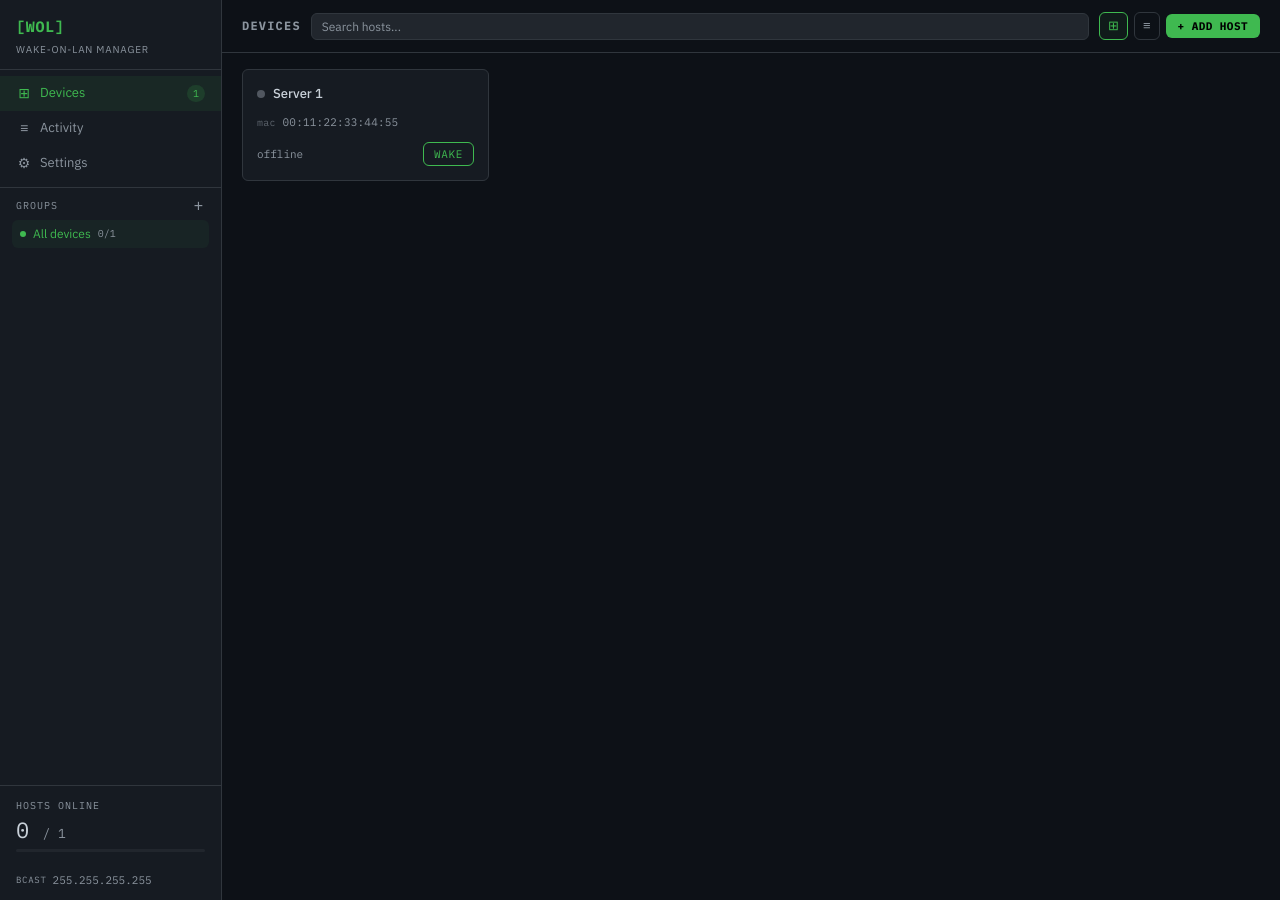
Test: App › viewMode › opens drawer from list view
The image size is (1280, 900).
Expected: the text "Server 1" is shown, [273,85,323,102]
Click the button titled "List view": (1147,26) [1134,12,1160,40]
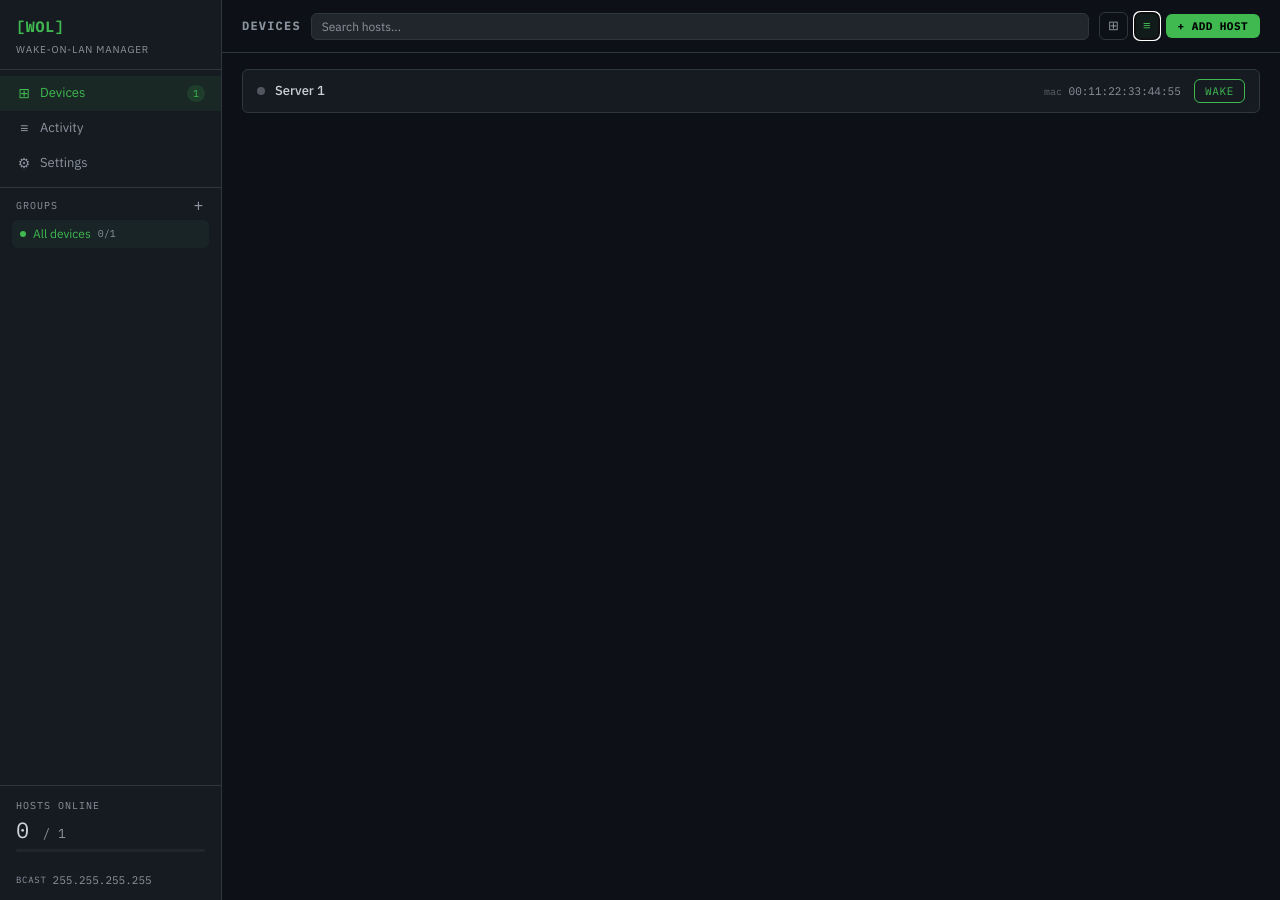
Click the text "Server 1": (300,91) [275,82,325,99]
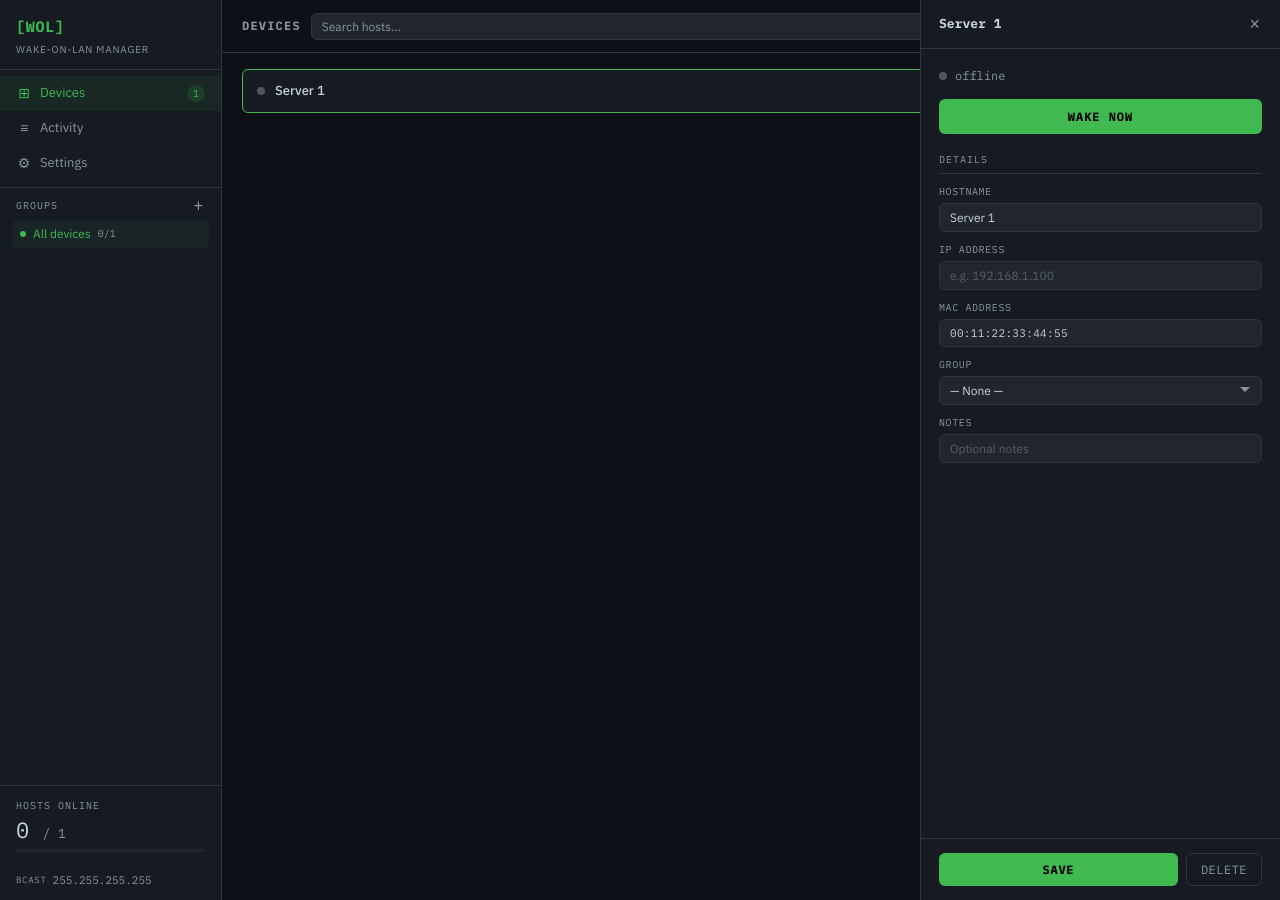
Now the button "WAKE NOW" is shown, box [939,98,1262,134]
